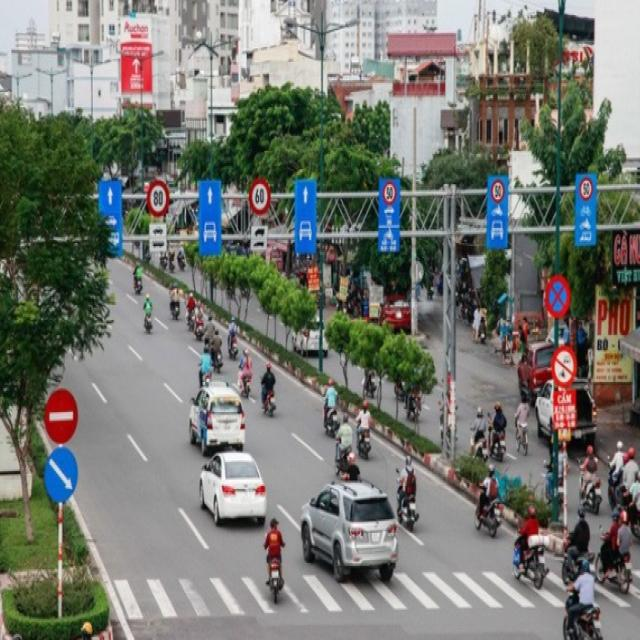car: (300, 465, 404, 584), (196, 444, 270, 534), (188, 374, 248, 462), (292, 298, 333, 367)
motobyte: (599, 494, 639, 604), (511, 505, 552, 599), (562, 496, 597, 595), (562, 560, 602, 640), (470, 462, 503, 543), (393, 450, 422, 541), (261, 513, 288, 608), (330, 410, 358, 482), (319, 371, 344, 445), (578, 444, 603, 516), (467, 404, 491, 478), (257, 353, 281, 423), (356, 392, 376, 463), (492, 396, 510, 472), (235, 342, 254, 406), (194, 338, 213, 390), (224, 312, 241, 366), (165, 276, 182, 328), (141, 291, 157, 341), (130, 253, 147, 300)
